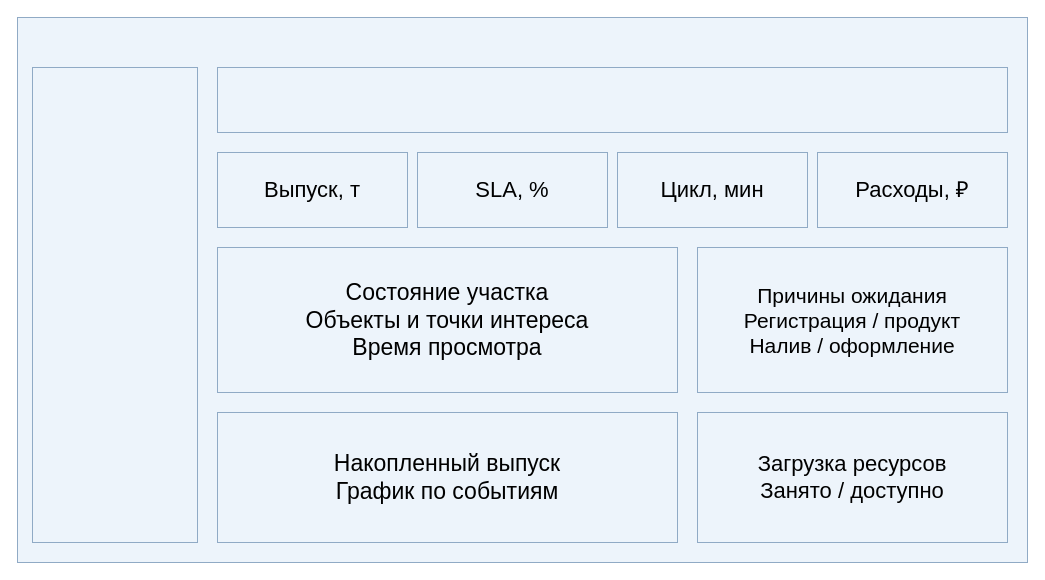
This 1045x580 diagram has some shape labels left out. Each missing label, with the centre of its shape:
ПОТОК Обзор Сценарии Исследование 3D-тур Данные История: the point at 115,304
Участок отгрузки | Синтетические данные | Рассчитать: the point at 612,99
